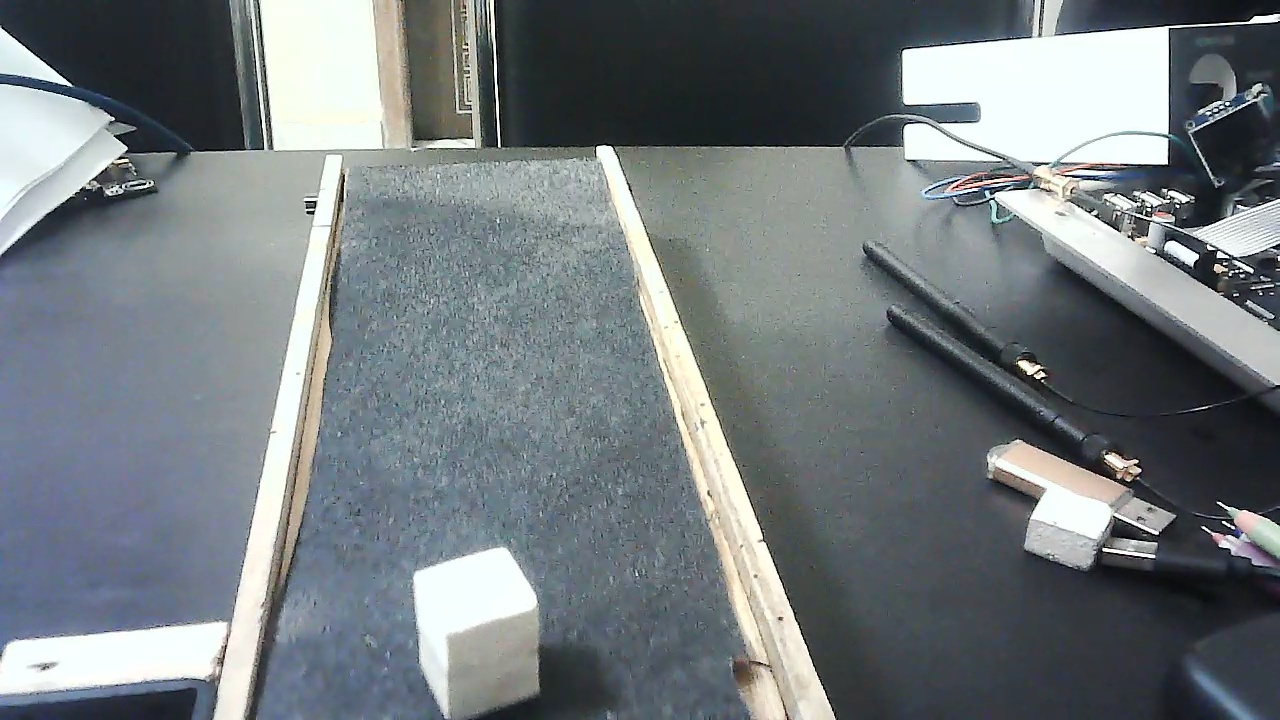Small: (390, 543, 566, 720)
